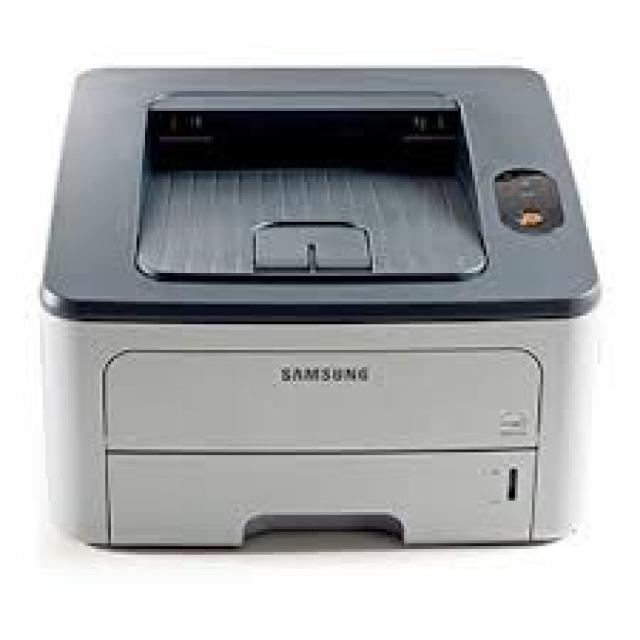printer: (29, 59, 614, 566)
